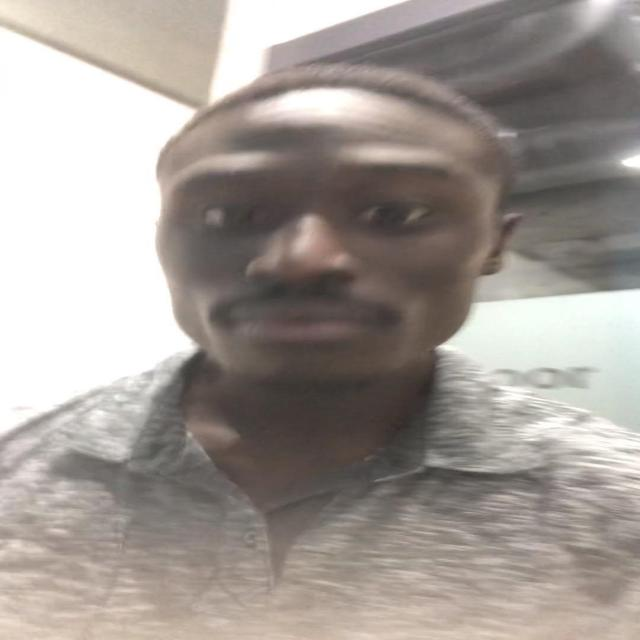face: (157, 120, 508, 388)
